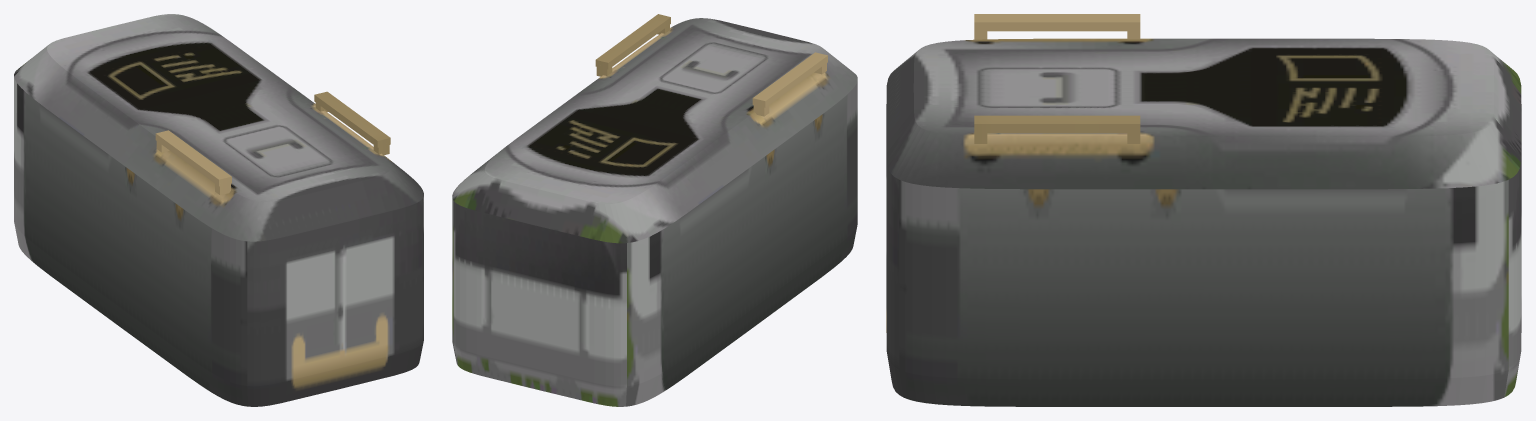
The model's file is Building_CryptosleepCasket.glb.
3 views of the same model, side by side, from view 1: azimuth 30°, elevation 25°; view 2: azimuth 150°, elevation 25°; view 3: azimuth 270°, elevation 25° (orthographic). The views are drawn at different scales.
Visible parts, largest first — view 1: CryptosleepCasket; view 2: CryptosleepCasket; view 3: CryptosleepCasket.
Boxes of the visible parts, <box> form: CryptosleepCasket: <box>14,14,423,406</box>; CryptosleepCasket: <box>452,14,857,406</box>; CryptosleepCasket: <box>886,14,1521,406</box>.
Bounding box in the file's own units: 0.95 × 0.92 × 1.94.
1 material, 1 textured.
